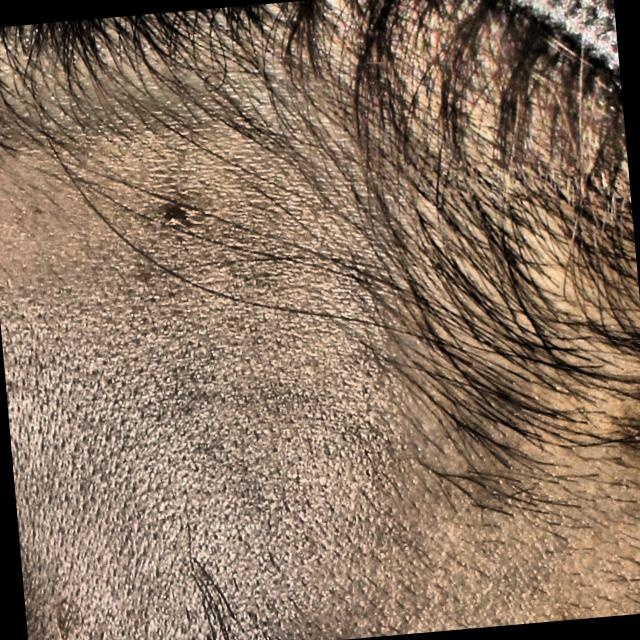whiteheads: (154, 200, 188, 236)
